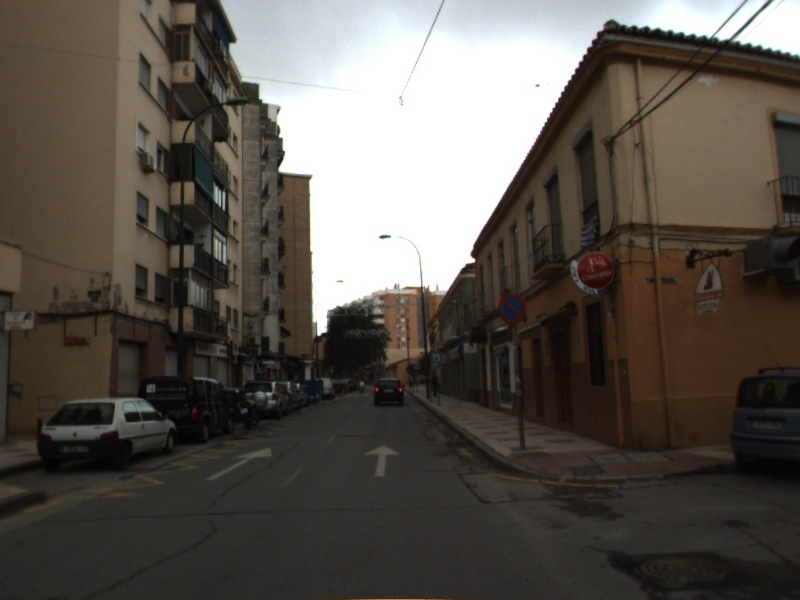STRAIGHT: (203, 445, 274, 482), (361, 442, 403, 479)
